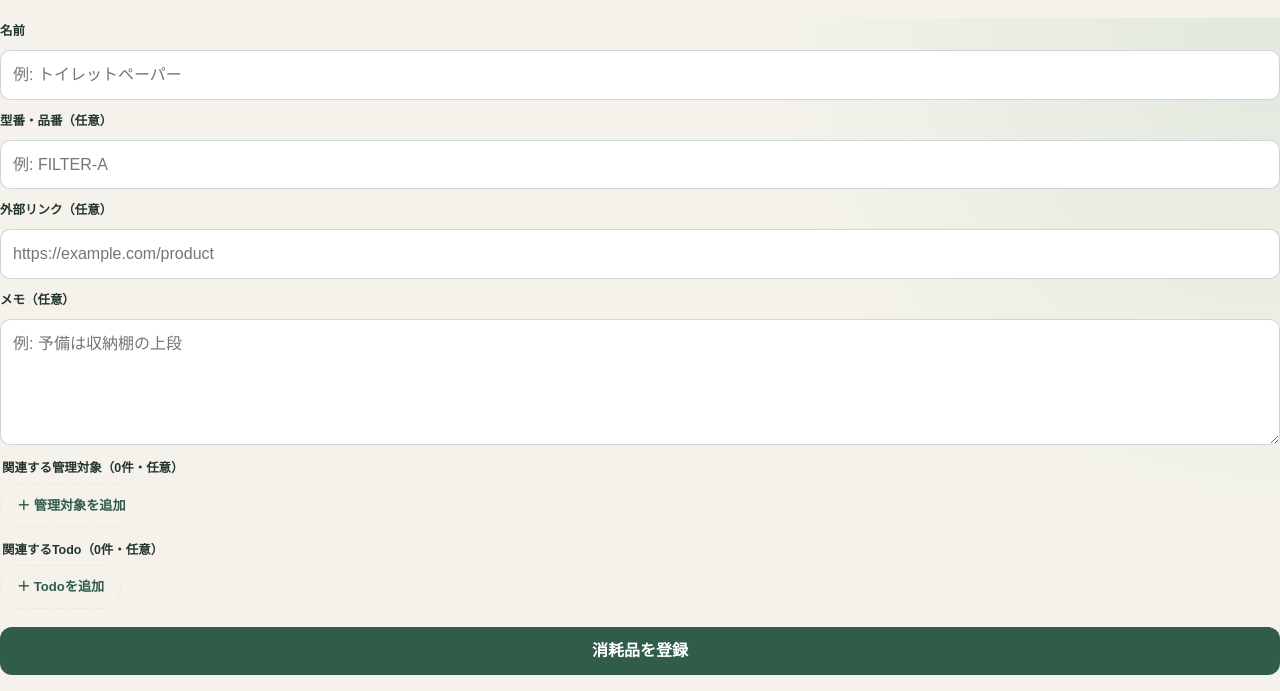
消耗品フォームの関連付け (Issue #292) › 管理対象を検索して複数選び、件数の確認と個別の解除ができる
Click the button "＋ 管理対象を追加": (71, 505) [0, 483, 143, 527]
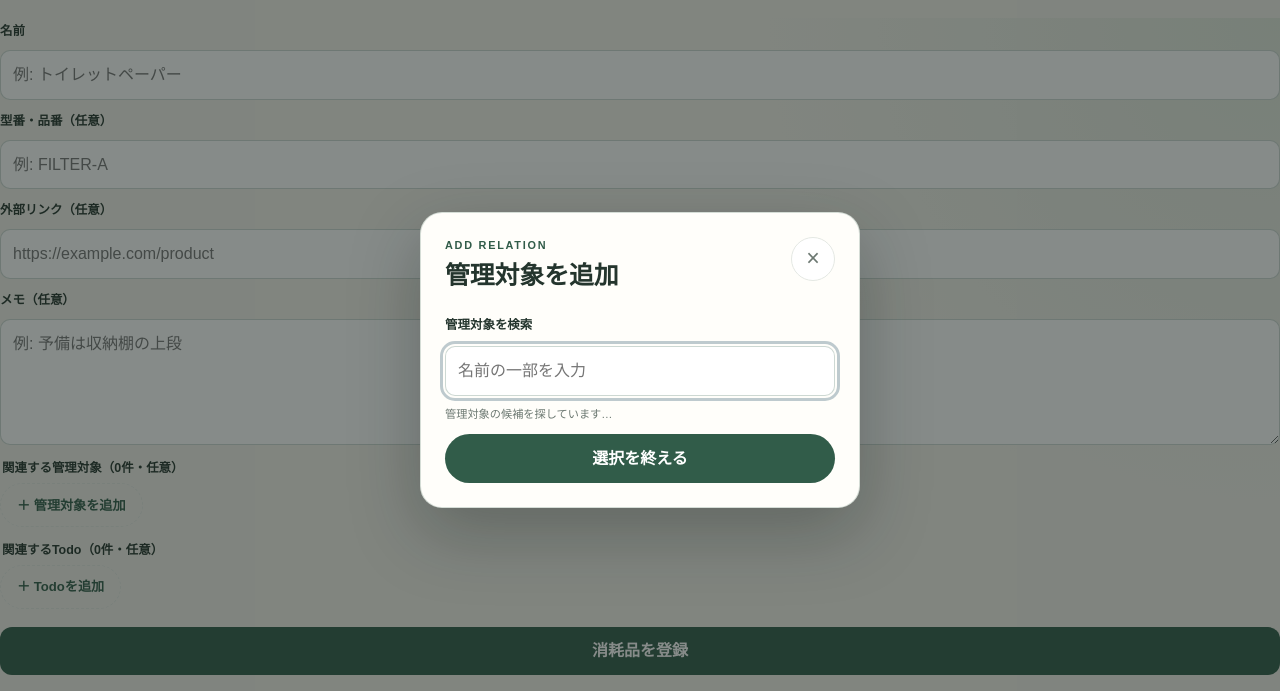
In the search field labelled "管理対象を検索": (640, 371) [445, 346, 835, 396], type "の"
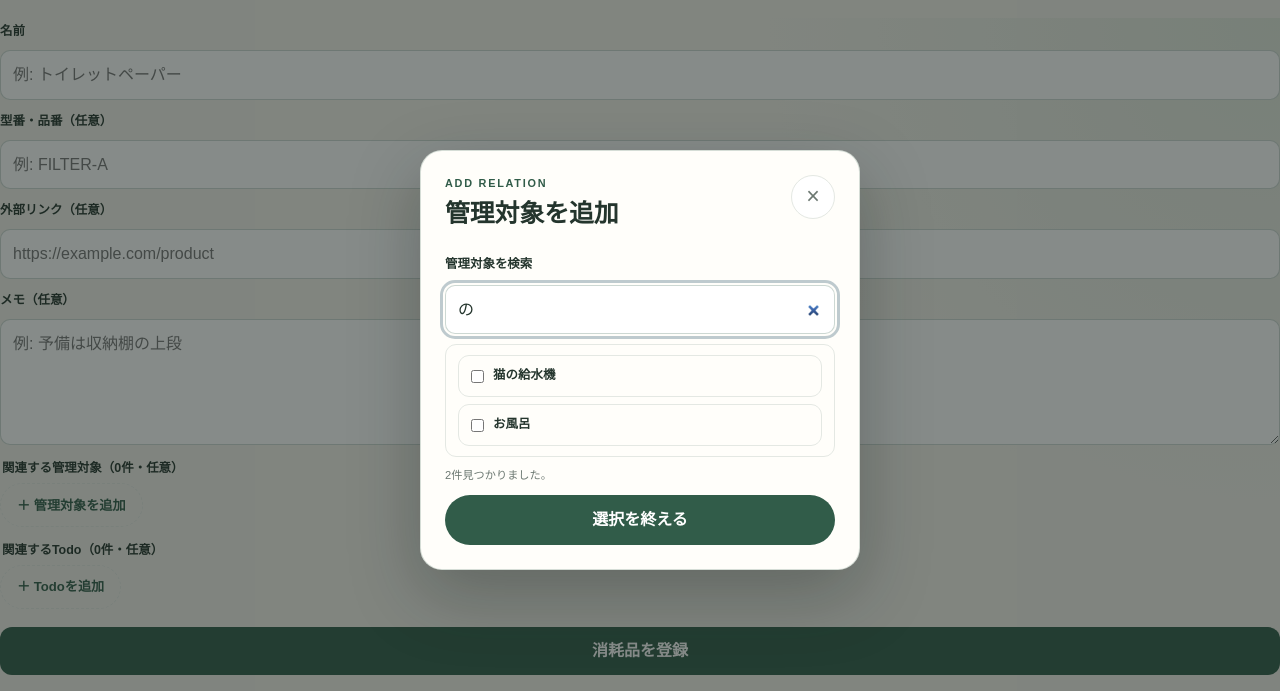
Expected: the text "2件見つかりました。" is shown, [445, 469, 552, 481]
Click the checkbox labelled "猫の給水機": (478, 376) [471, 370, 484, 383]
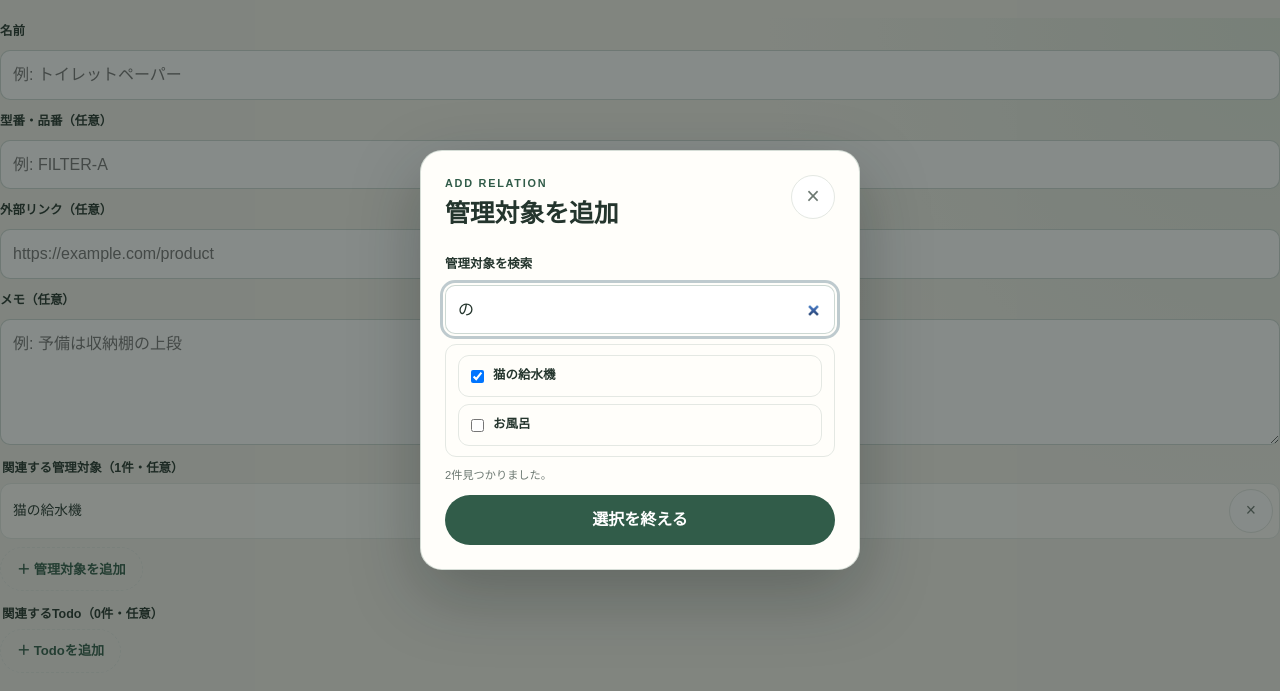
Click the checkbox labelled "お風呂": (478, 425) [471, 419, 484, 432]
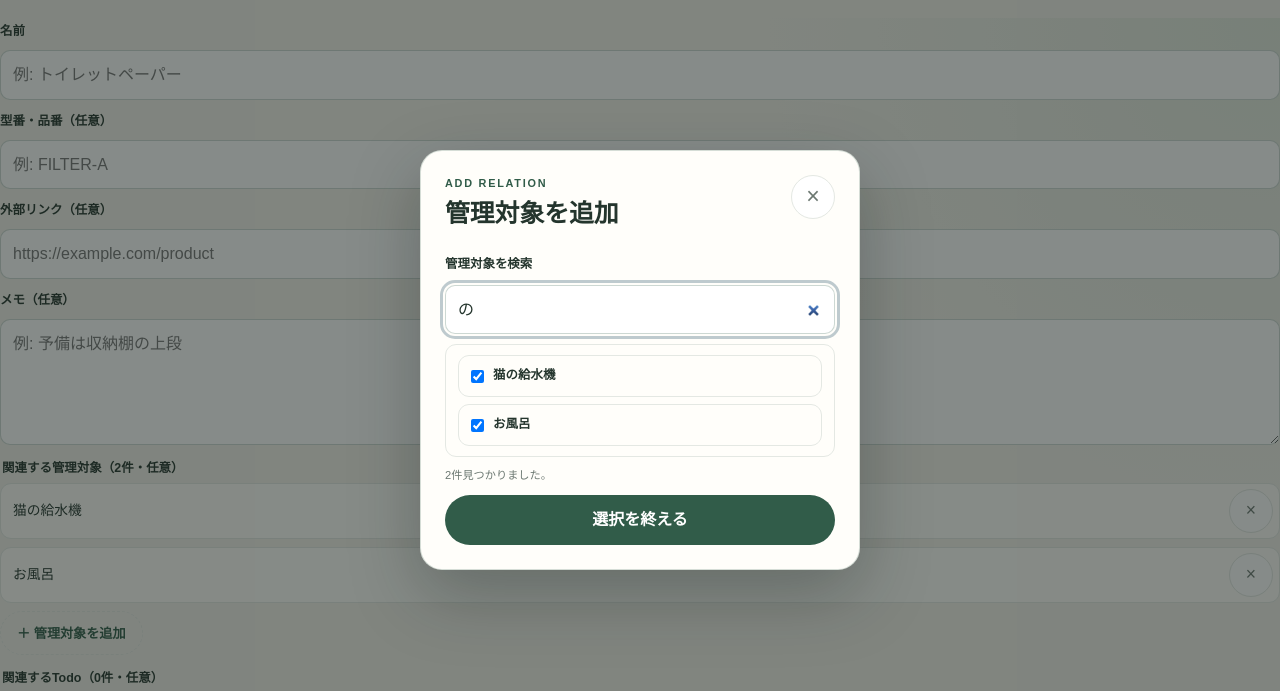
Click the button "選択を終える": (640, 520) [445, 495, 835, 545]
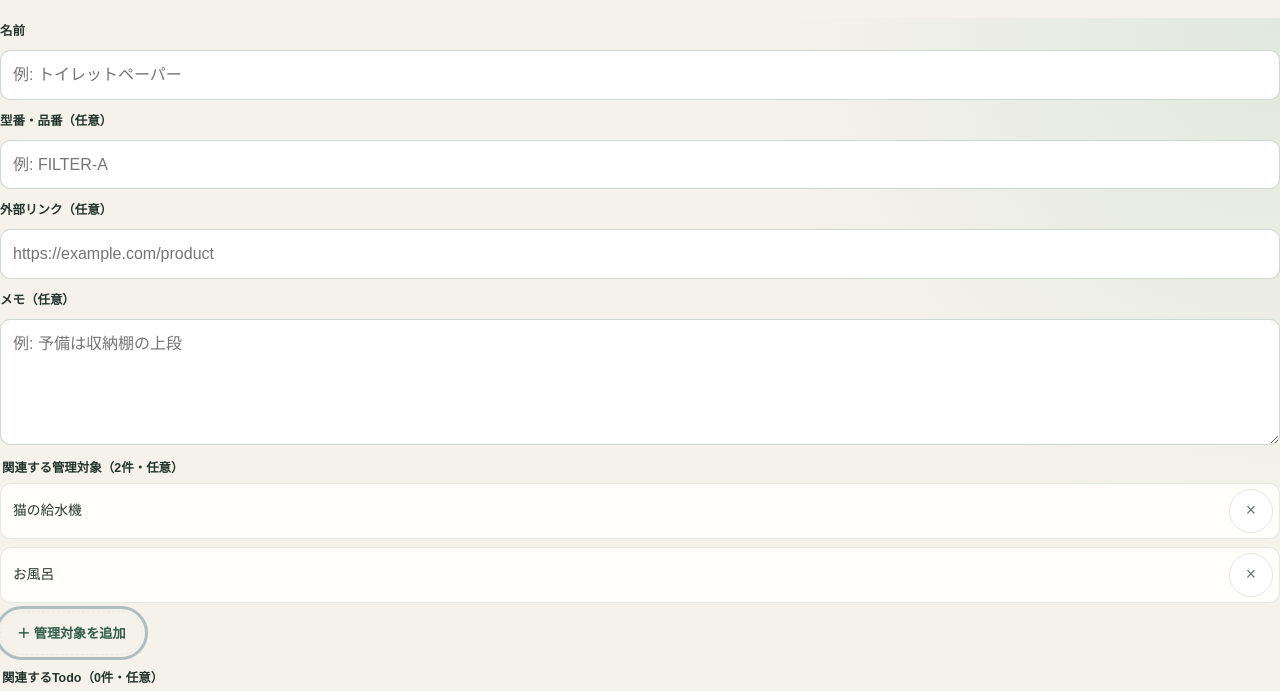
Expected: the element "関連する管理対象（2件・任意）" is shown, [0, 459, 1279, 655]
Expected: the dialog is gone
Click the button named "お風呂を関連から外す": (1251, 575) [1229, 553, 1273, 597]
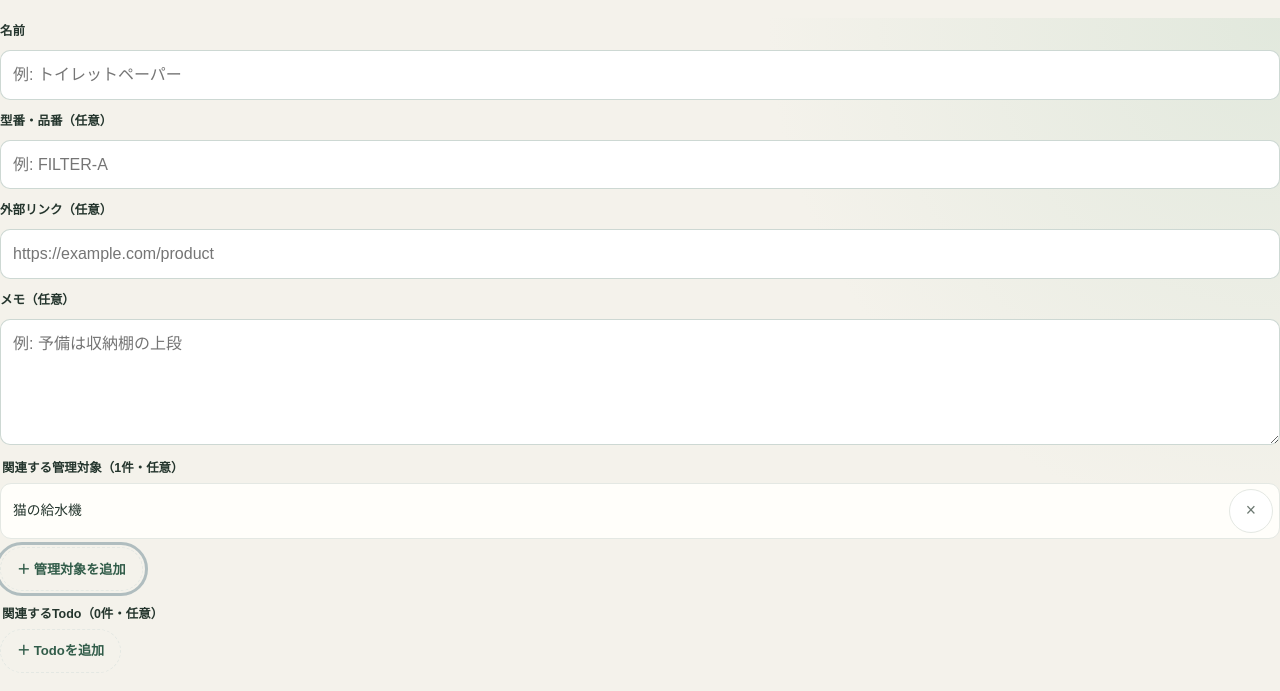
Expected: the element "関連する管理対象（1件・任意）" is shown, [0, 459, 1279, 591]
